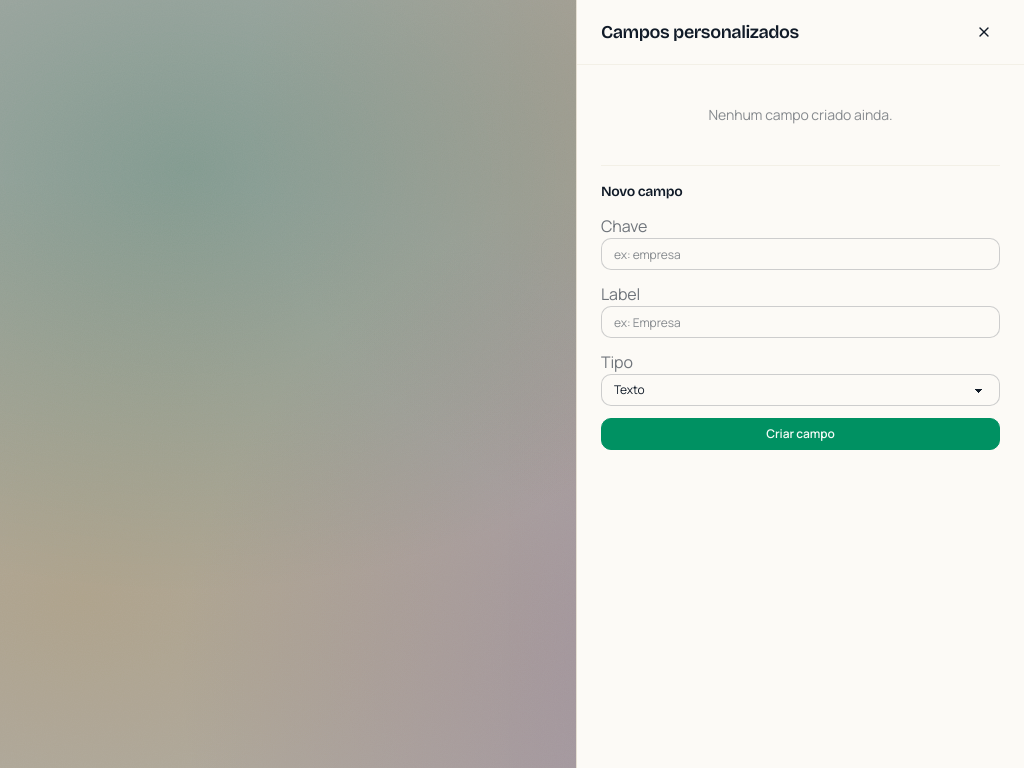
Test: CustomFieldSettingsPanel › creates email field and list reflects it without page reload
Expected: the heading "Campos personalizados" is shown, left=601, top=18, right=799, bottom=46
Type "email_contact" into the field labelled "Chave". click: (800, 254)
box: left=601, top=238, right=1000, bottom=270
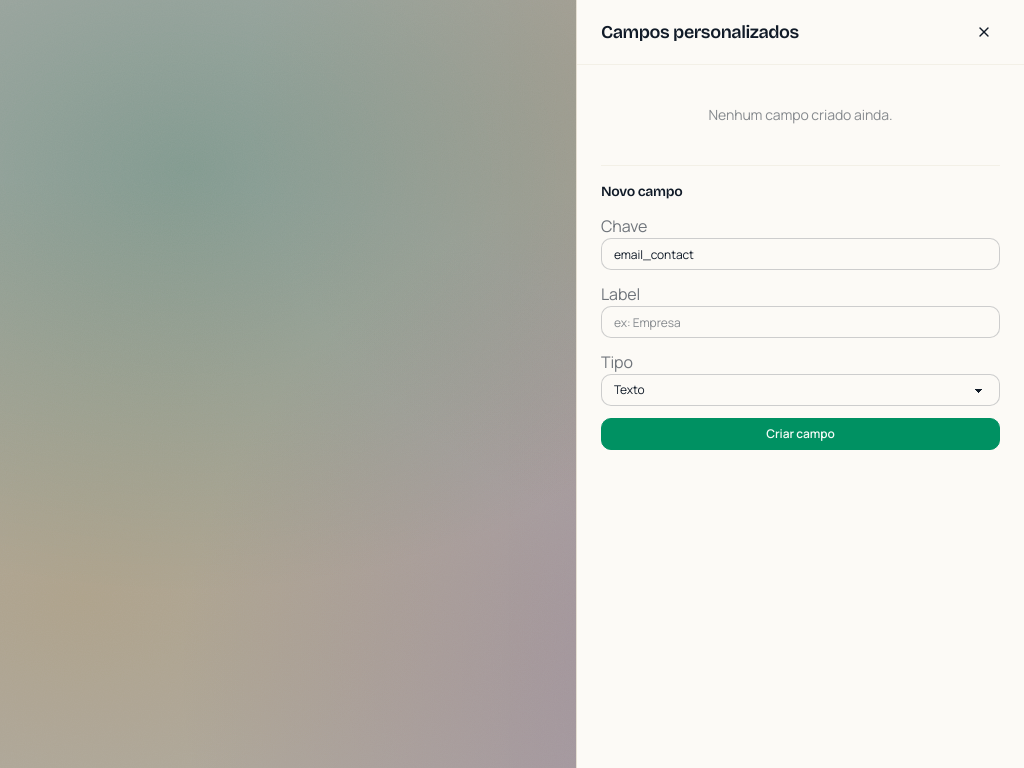
Type "Email de contato" into the field labelled "Label". click: (800, 322)
box: left=601, top=306, right=1000, bottom=338
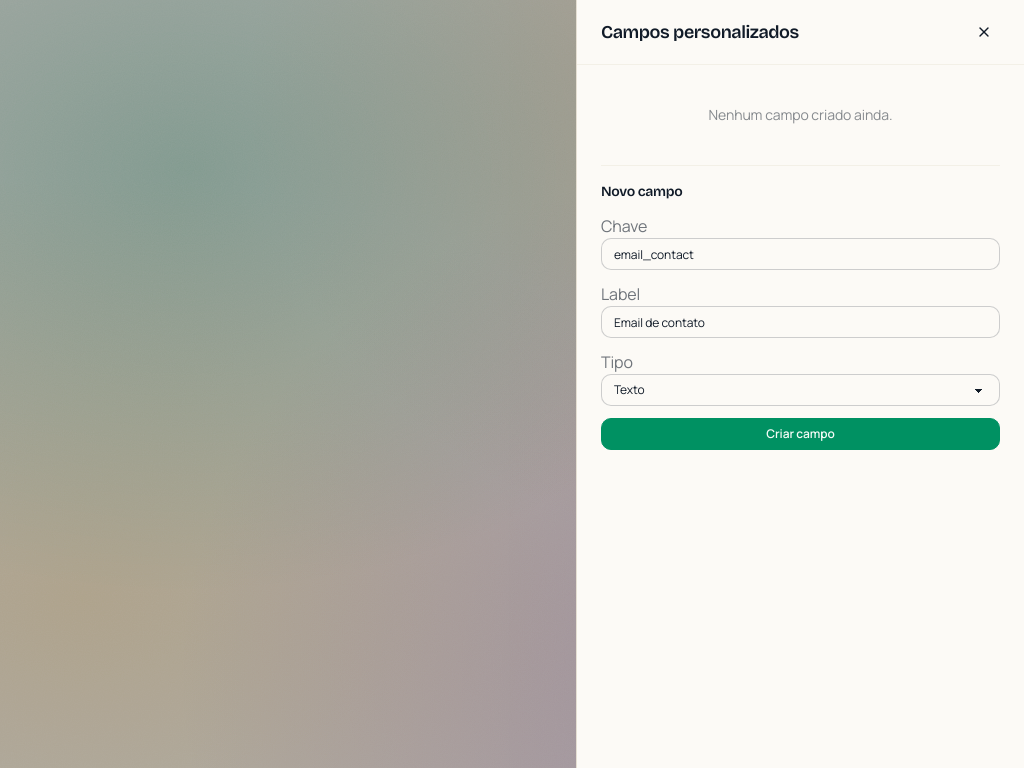
Select "Email" in the dropdown labelled "Tipo". click: (800, 390)
box: left=601, top=374, right=1000, bottom=406
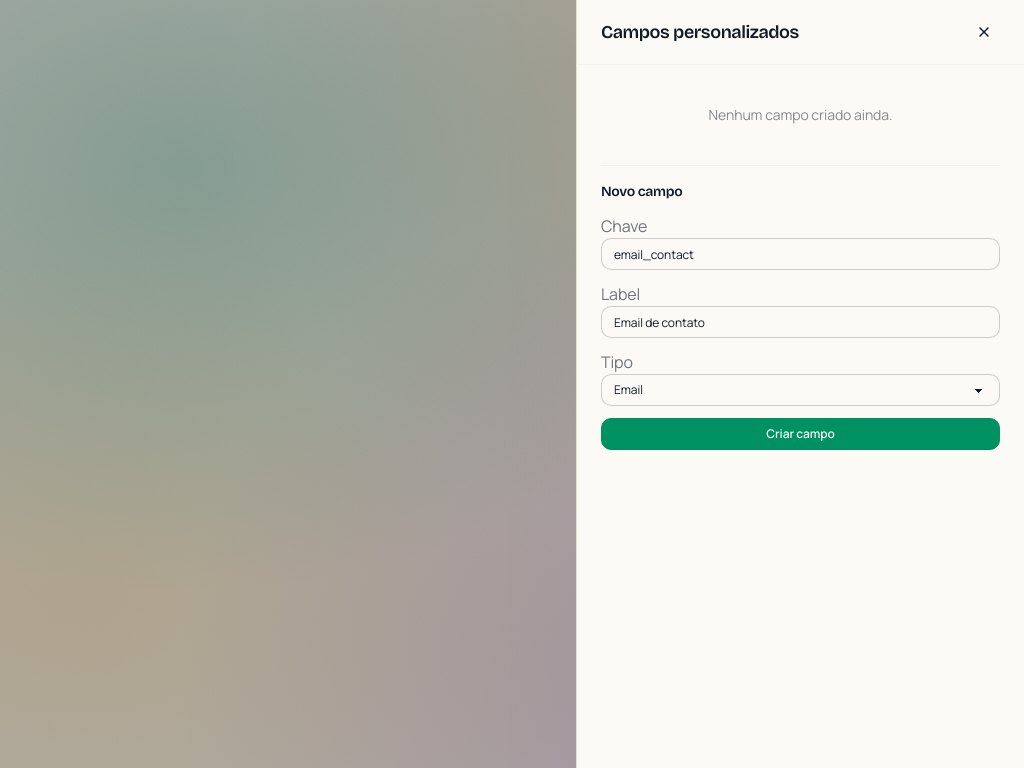
Click the button "Criar campo". click: (800, 434)
box: left=601, top=418, right=1000, bottom=450
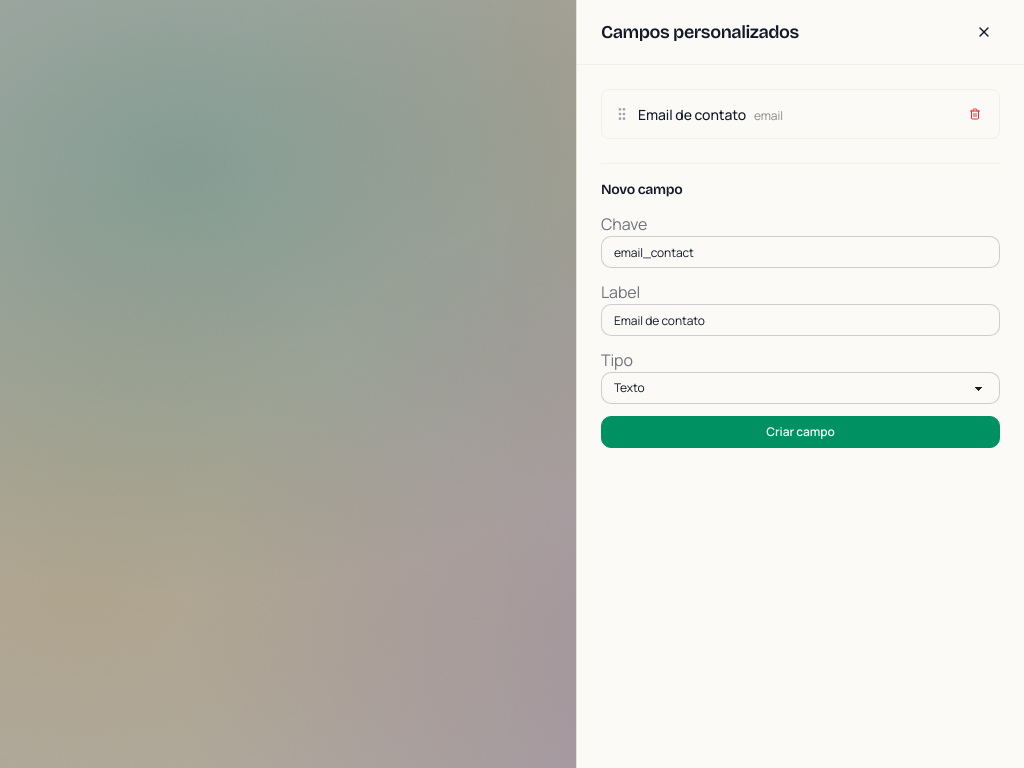
Now the text "Email de contato" is shown, box left=638, top=105, right=746, bottom=124
